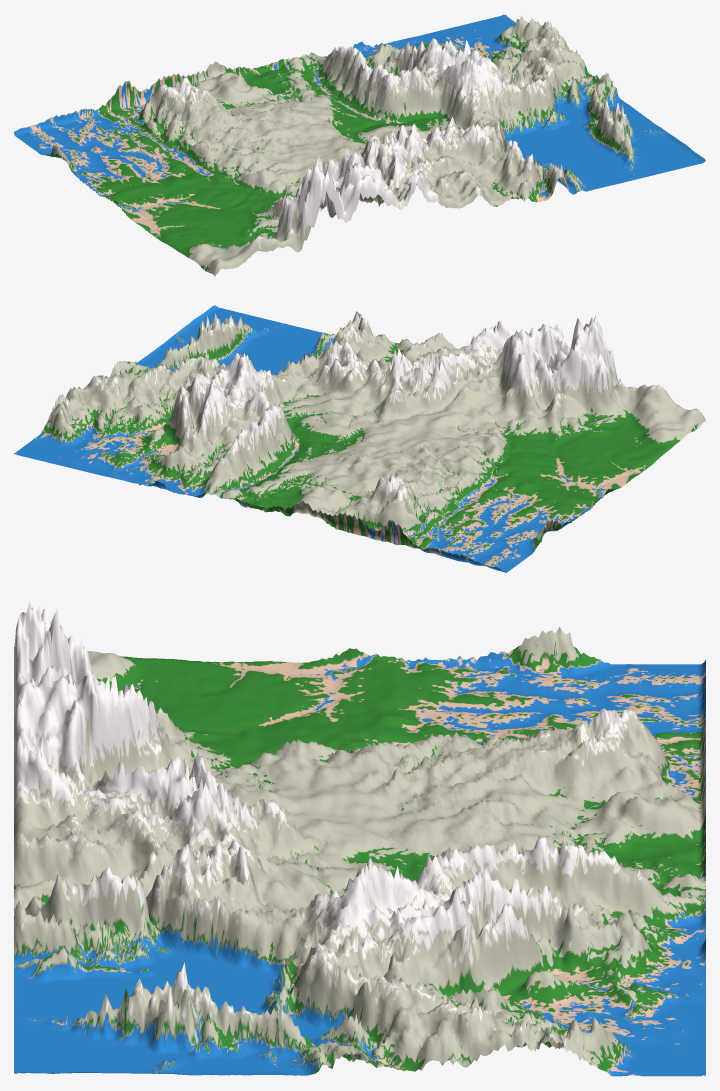
Rendered from World.fbx.
3 views of the same model, one above another, from view 1: azimuth 30°, elevation 25°; view 2: azimuth 150°, elevation 25°; view 3: azimuth 270°, elevation 25° (orthographic). The views are drawn at different scales.
Visible parts, largest first — view 1: Plane; view 2: Plane; view 3: Plane.
Part boxes in pixels (x1,y1,x2,y2): Plane: [14, 14, 705, 276]; Plane: [14, 305, 705, 572]; Plane: [14, 602, 705, 1076].
Size of the model in its own units: 28050 by 5038 by 19917.
